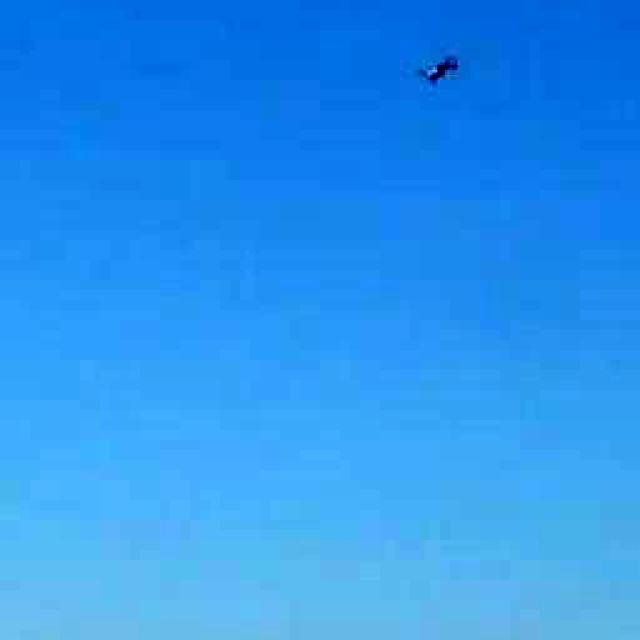bird: (405, 34, 482, 114)
